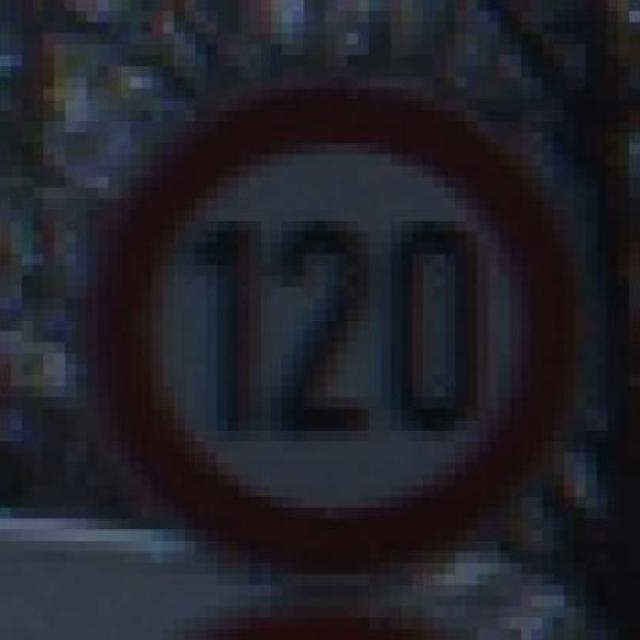forb_speed_over_120: (100, 93, 569, 579)
